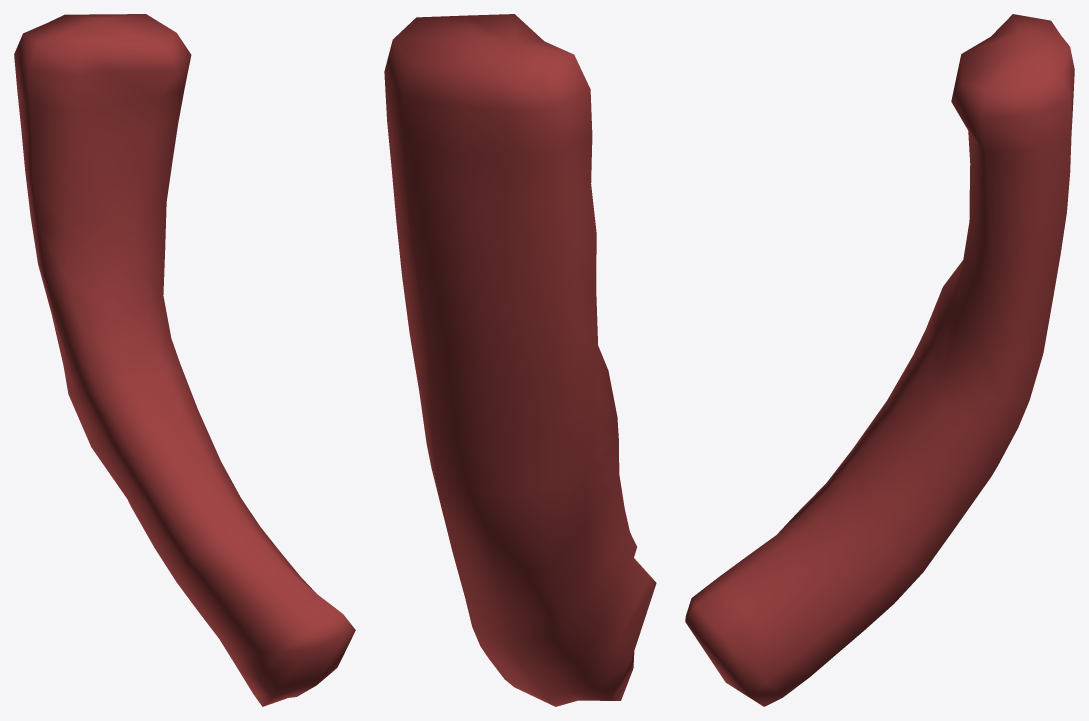
The model's file is common-tendon-sheath-of-fibularis-muscles-l.glb.
3 views of the same model, side by side, from view 1: azimuth 30°, elevation 25°; view 2: azimuth 150°, elevation 25°; view 3: azimuth 270°, elevation 25° (orthographic). The views are drawn at different scales.
Parts seen in each view (by area): view 1: Common tendon sheath of fibularis muscles.l; view 2: Common tendon sheath of fibularis muscles.l; view 3: Common tendon sheath of fibularis muscles.l.
Part boxes in pixels (<box>): Common tendon sheath of fibularis muscles.l: <box>14,14,355,706</box>; Common tendon sheath of fibularis muscles.l: <box>384,14,656,706</box>; Common tendon sheath of fibularis muscles.l: <box>685,14,1074,706</box>.
Size of the model in its own units: 0.0141 by 0.0434 by 0.0247.
